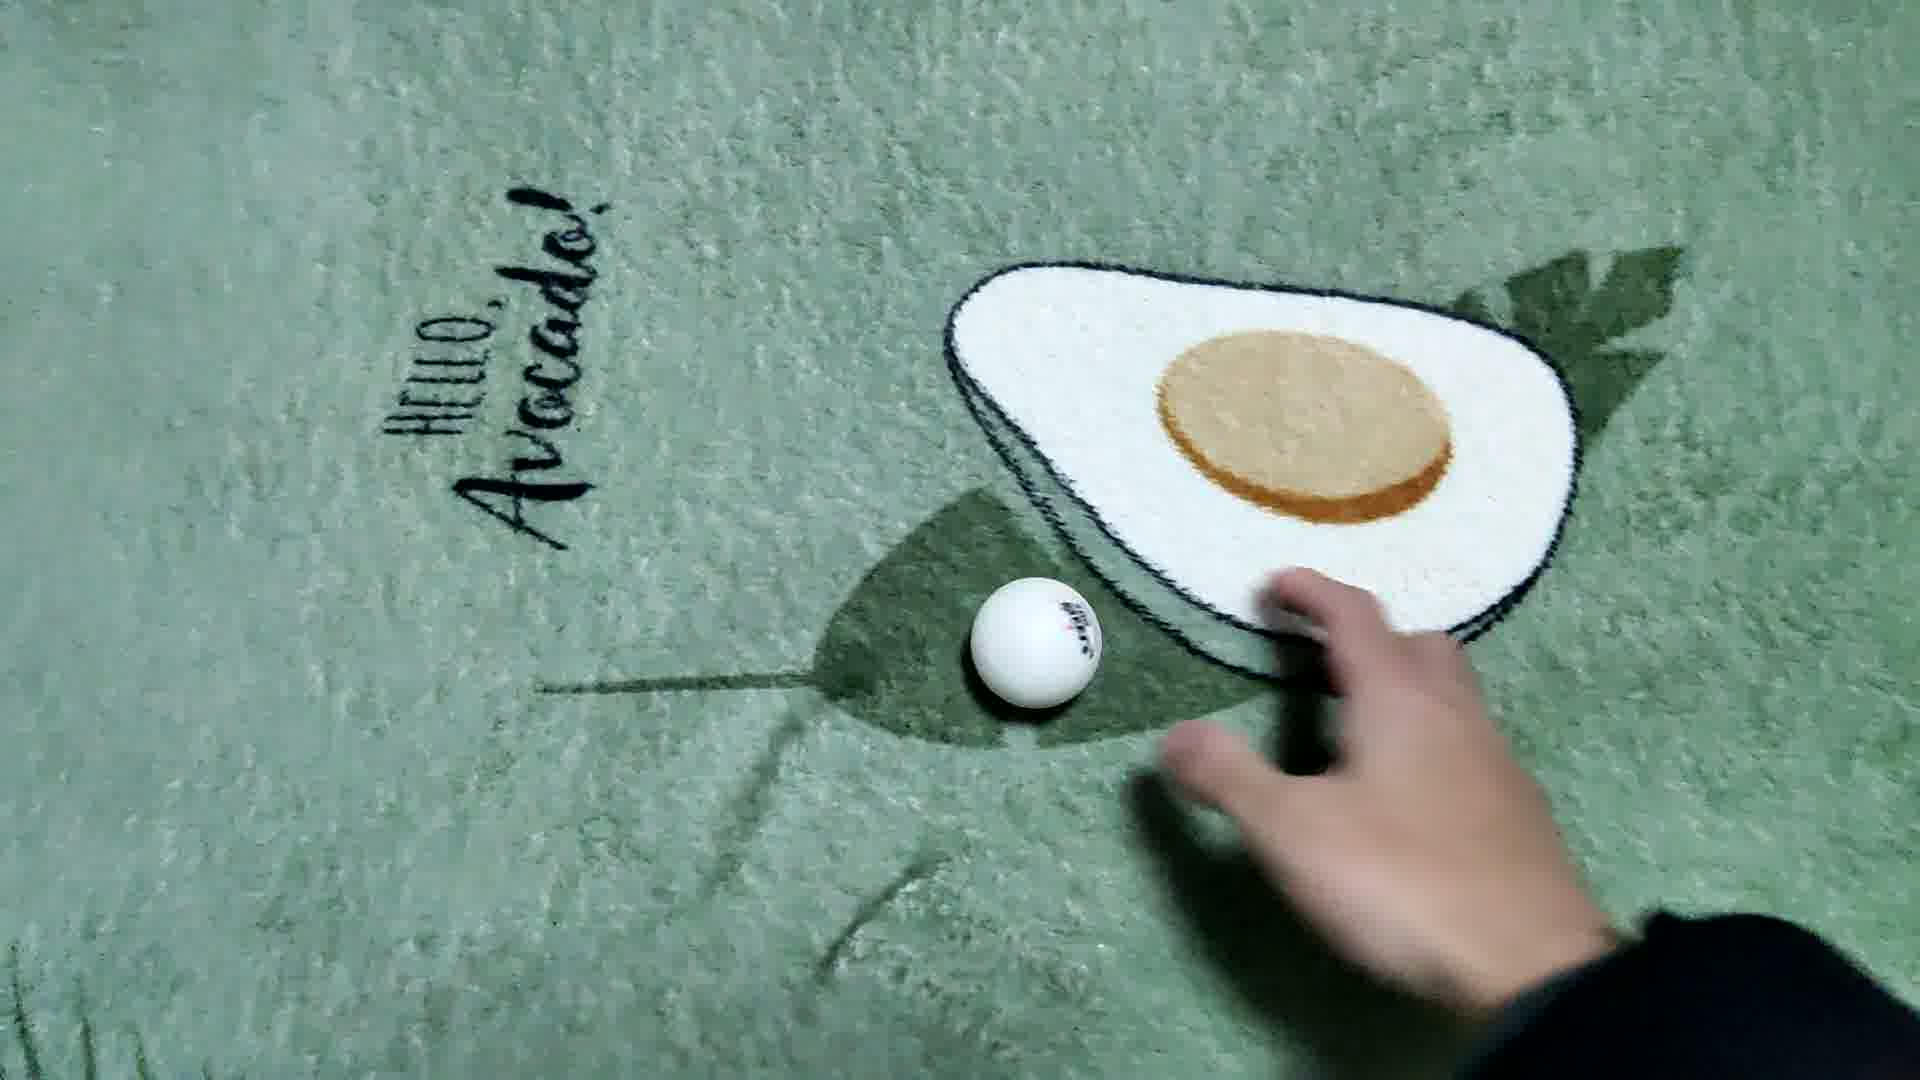Ball: (971, 574, 1101, 711)
